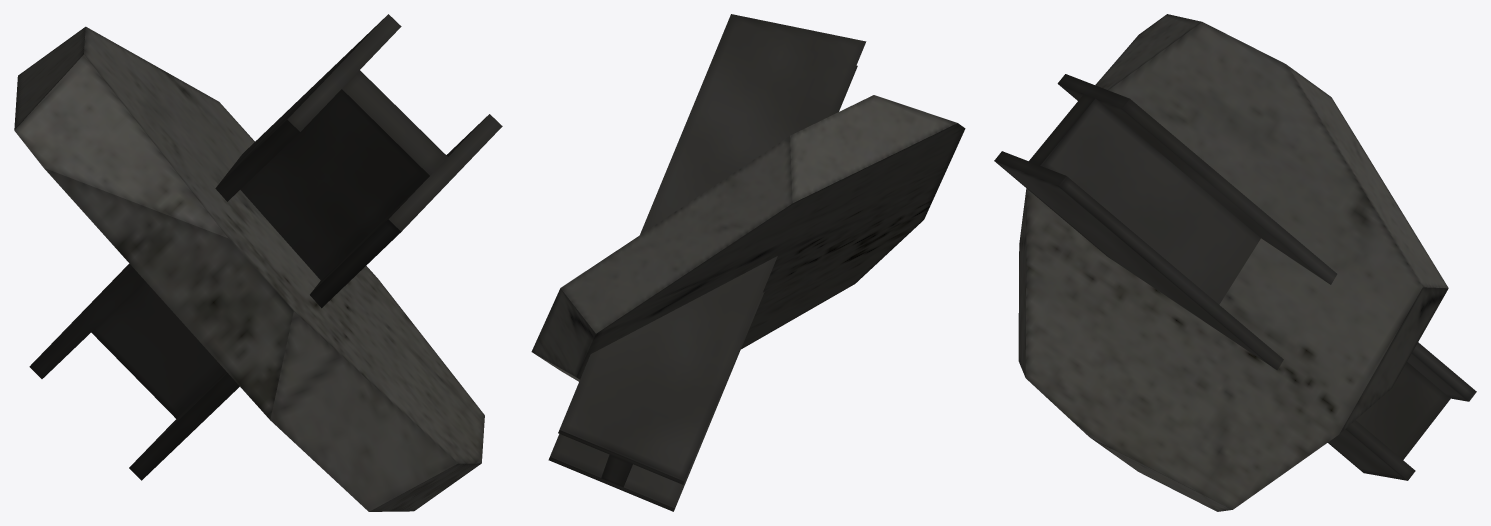
The model's file is Model_DebrisSmall.fbx.
3 views of the same model, side by side, from view 1: azimuth 30°, elevation 25°; view 2: azimuth 150°, elevation 25°; view 3: azimuth 270°, elevation 25° (orthographic). The views are drawn at different scales.
Parts seen in each view (by area): view 1: polySurface2; view 2: polySurface2; view 3: polySurface2.
Boxes of the visible parts, left/top/right/bottom form: polySurface2: left=14, top=14, right=502, bottom=511; polySurface2: left=531, top=14, right=965, bottom=511; polySurface2: left=994, top=14, right=1476, bottom=511.
Bounding box in the file's own units: 5.75 × 6.03 × 6.54.
